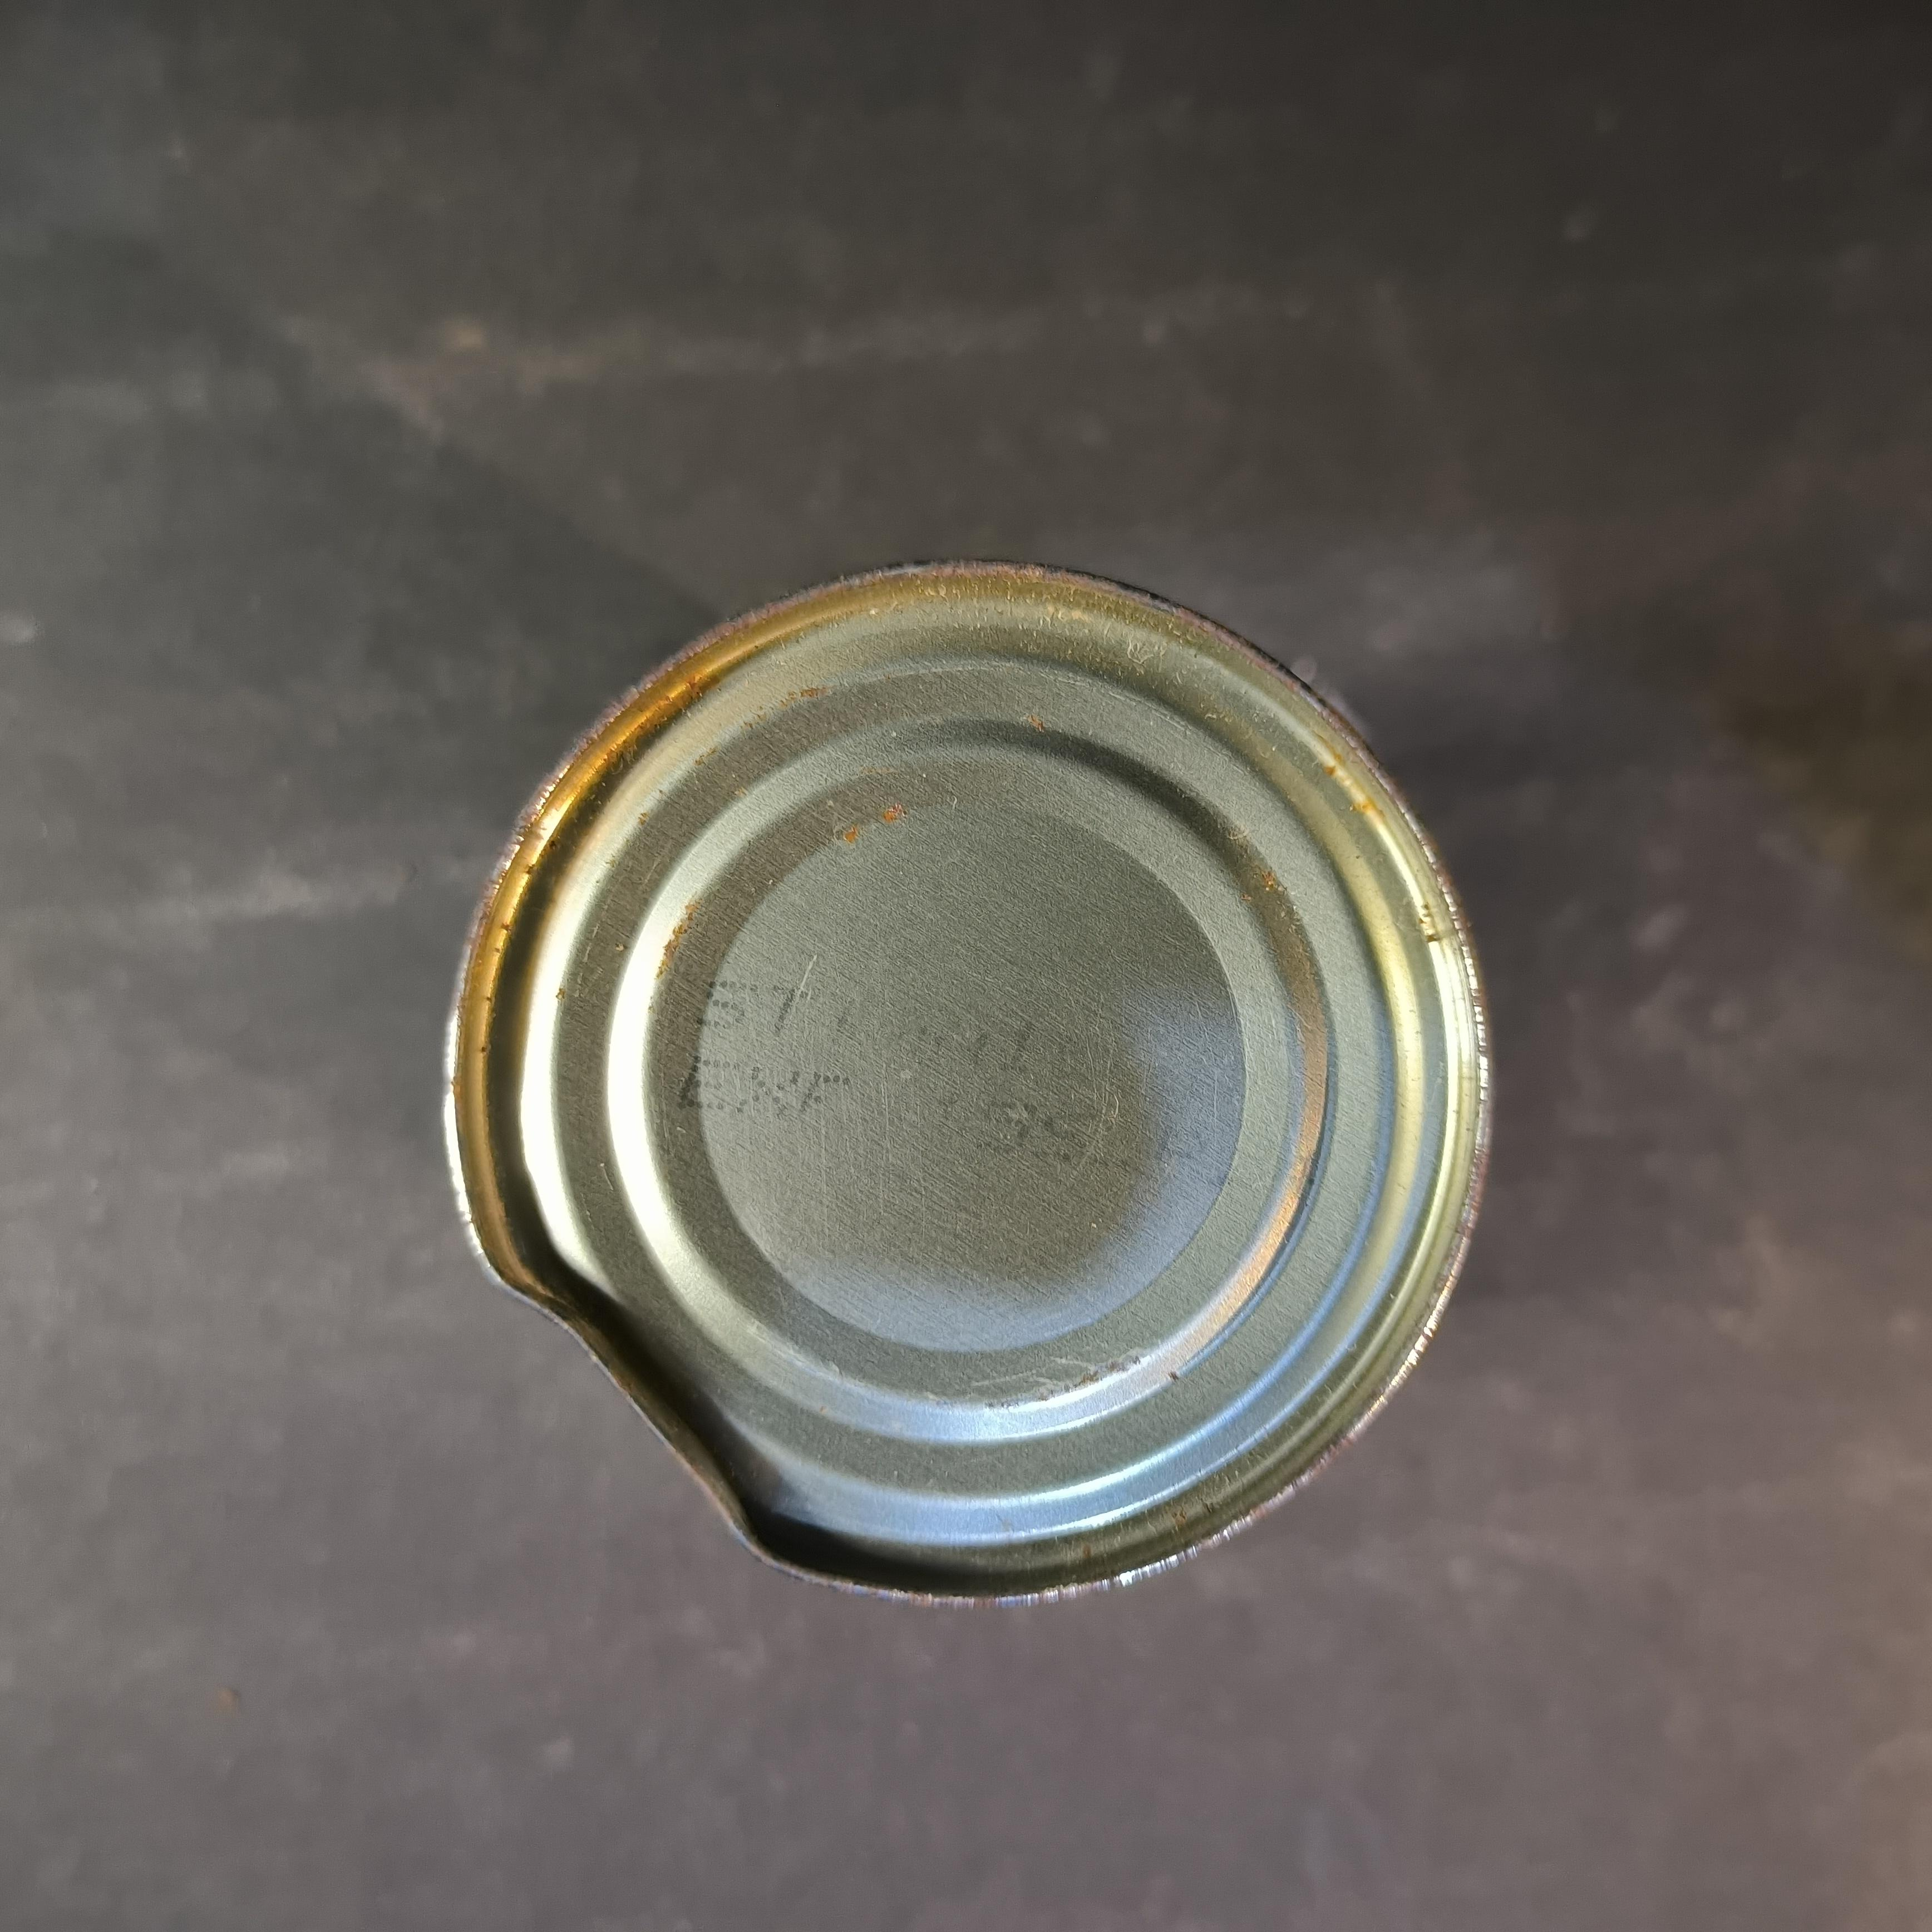Minor Defect: (442, 559, 1495, 1608)
